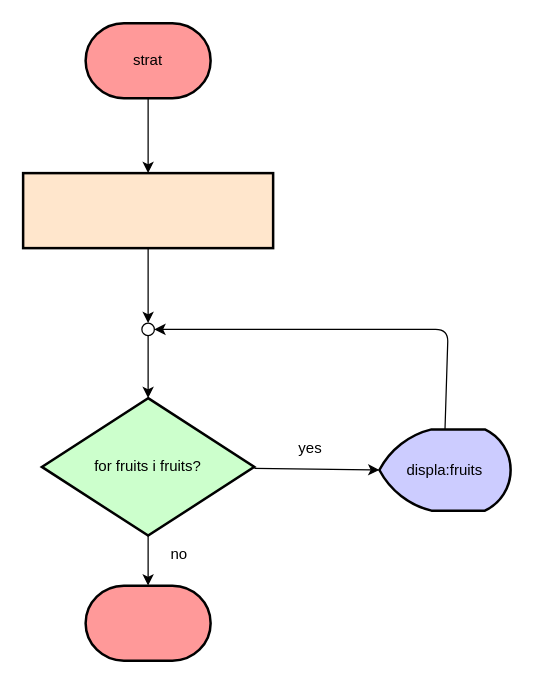
The diagram is 533 pixels wide and 683 high, and some of its shapes have lost their labels. Each missing label, with the centre of its shape:
fruits = ["apple" , "banana" , "cherry"]: (x=147, y=210)
stop: (x=147, y=622)
